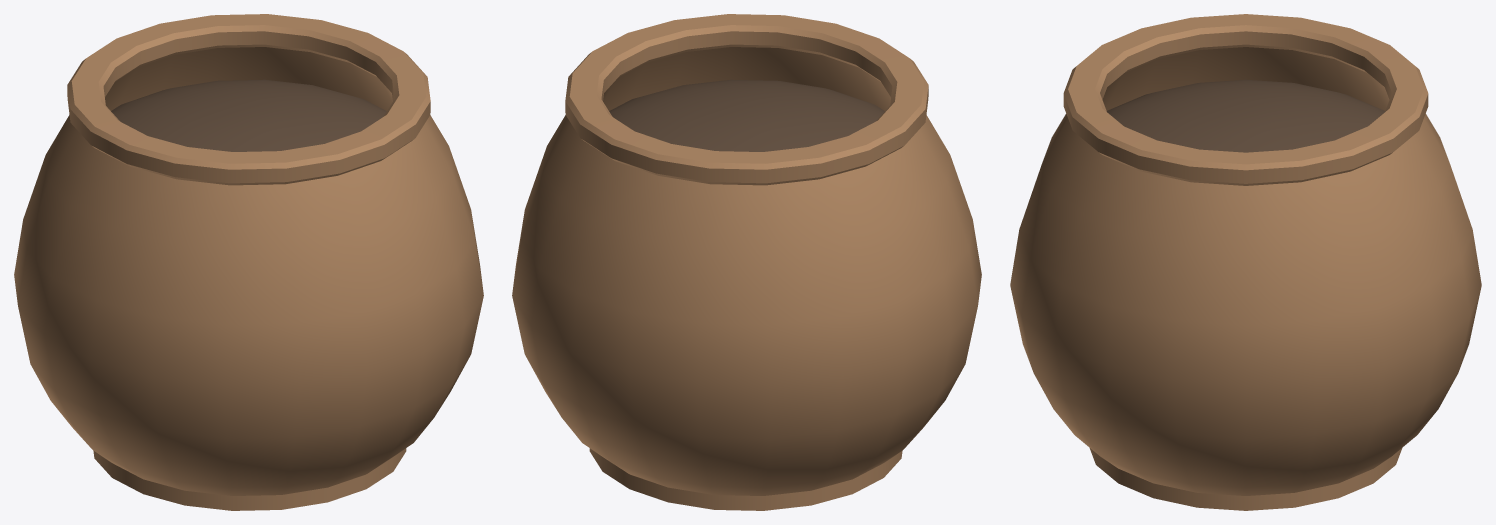
Rendered from Pot.fbx.
The picture shows the model from 3 angles, left to right: view 1: azimuth 30°, elevation 25°; view 2: azimuth 150°, elevation 25°; view 3: azimuth 270°, elevation 25°; orthographic projection.
Visible parts, largest first — view 1: pCylinder1, pSphere1; view 2: pCylinder1, pSphere1; view 3: pCylinder1, pSphere1.
Boxes of the visible parts, box(x1,y1,x2,y2) form: pCylinder1: box(14, 14, 483, 510); pSphere1: box(111, 79, 386, 151); pCylinder1: box(512, 14, 981, 510); pSphere1: box(609, 79, 884, 151); pCylinder1: box(1010, 14, 1481, 510); pSphere1: box(1106, 79, 1385, 152).
Bounding box in the file's own units: 14.4 × 11.98 × 14.4.
